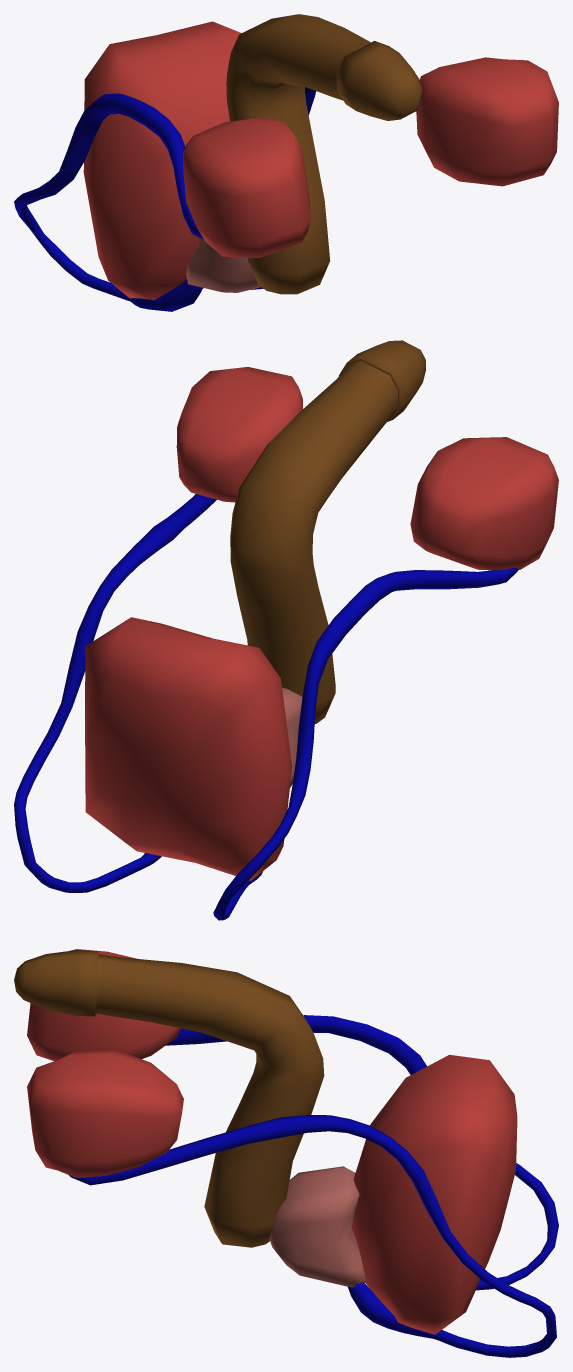
Rendered from testostron.fbx.
3 views of the same model, one above another, from view 1: azimuth 30°, elevation 25°; view 2: azimuth 150°, elevation 25°; view 3: azimuth 270°, elevation 25° (orthographic). The views are drawn at different scales.
Visible parts, largest first — view 1: pCylinder2, pCube3, pCube4; view 2: pCylinder2, pCube4, pCube3; view 3: pCylinder2, pCube3, pCube4.
Boxes of the visible parts, x1,y1,x2,y2 form: pCylinder2: (14,14,422,311); pCube3: (416,57,558,186); pCube4: (182,117,310,258); pCylinder2: (14,340,518,920); pCube4: (410,437,558,570); pCube3: (176,367,302,502); pCylinder2: (14,950,558,1357); pCube3: (27,1049,183,1177); pCube4: (27,949,180,1060).
Bounding box in the file's own units: 92.34 × 98.72 × 131.
